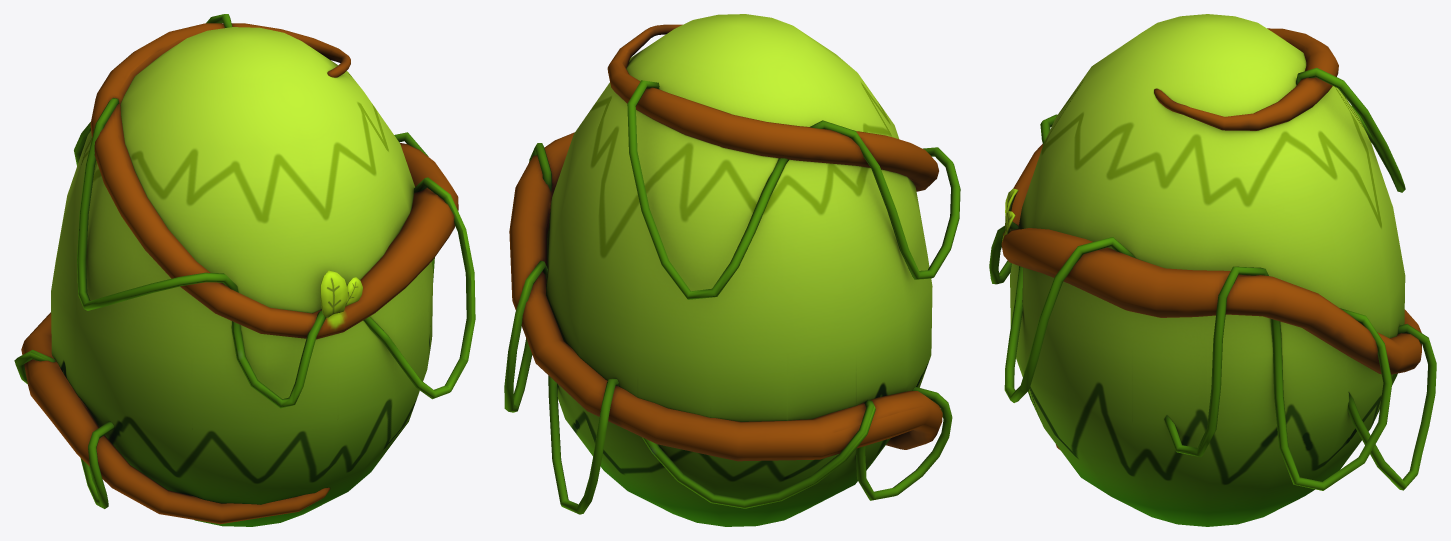
The model's file is egg3map7.fbx.
The picture shows the model from 3 angles, left to right: view 1: azimuth 30°, elevation 25°; view 2: azimuth 150°, elevation 25°; view 3: azimuth 270°, elevation 25°; orthographic projection. The views are drawn at different scales.
Parts seen in each view (by area): view 1: egg3map7; view 2: egg3map7; view 3: egg3map7.
Part boxes in pixels (x1=…): egg3map7: x1=14, y1=14, x2=475, y2=526; egg3map7: x1=504, y1=14, x2=960, y2=526; egg3map7: x1=989, y1=14, x2=1436, y2=526.
Bounding box in the file's own units: 35.77 × 41.23 × 34.84.
Materials: 1 (1 with a texture image).
